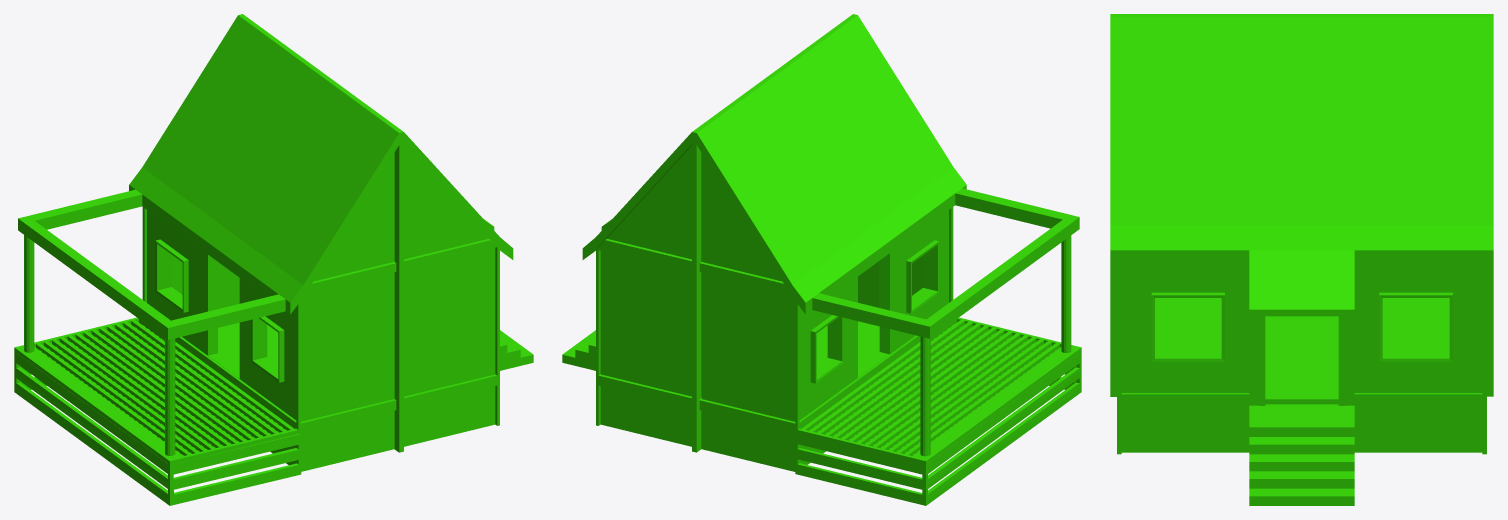
Rendered from house.fbx.
3 views of the same model, side by side, from view 1: azimuth 30°, elevation 25°; view 2: azimuth 150°, elevation 25°; view 3: azimuth 270°, elevation 25° (orthographic). The views are drawn at different scales.
Parts seen in each view (by area): view 1: Cube, Cube.001; view 2: Cube, Cube.001; view 3: Cube.
Part boxes in pixels (x1=…): Cube: x1=14, y1=14, x2=533, y2=505; Cube.001: x1=40, y1=325, x2=286, y2=455; Cube: x1=562, y1=14, x2=1081, y2=505; Cube.001: x1=809, y1=324, x2=1056, y2=455; Cube: x1=1110, y1=14, x2=1493, y2=505.
Bounding box in the file's own units: 1915 × 1394 × 1274.
